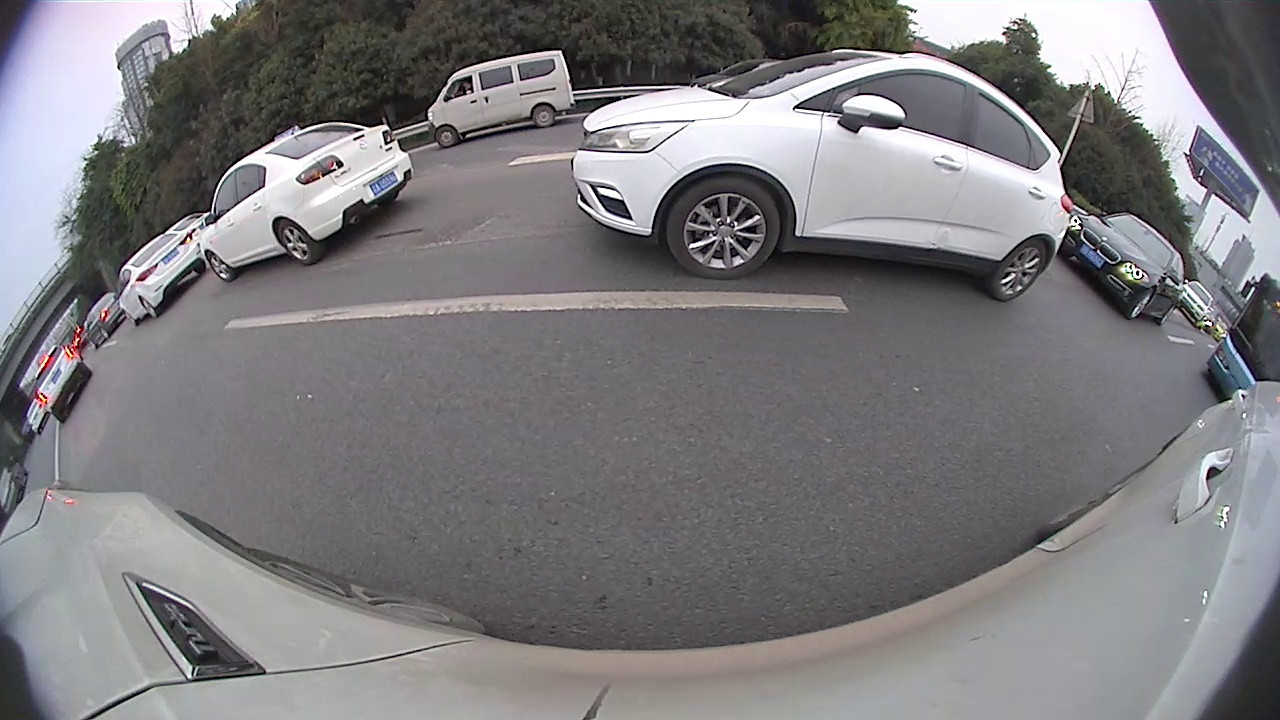bus: (1202, 271, 1279, 407)
car: (568, 46, 1074, 301), (194, 120, 416, 285), (426, 50, 578, 151), (1060, 210, 1189, 327), (113, 229, 211, 329), (24, 338, 96, 425), (79, 285, 129, 348), (1180, 275, 1215, 327)
front: (664, 176, 778, 281), (205, 249, 241, 284), (1127, 286, 1155, 322), (435, 125, 460, 148)
rear: (986, 236, 1047, 303), (276, 216, 325, 266), (531, 102, 558, 129), (138, 296, 159, 320)
